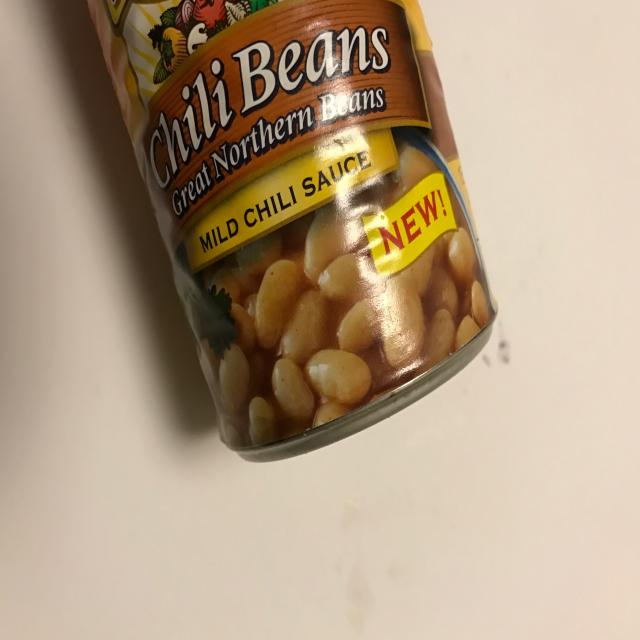metal: (84, 0, 499, 463)
